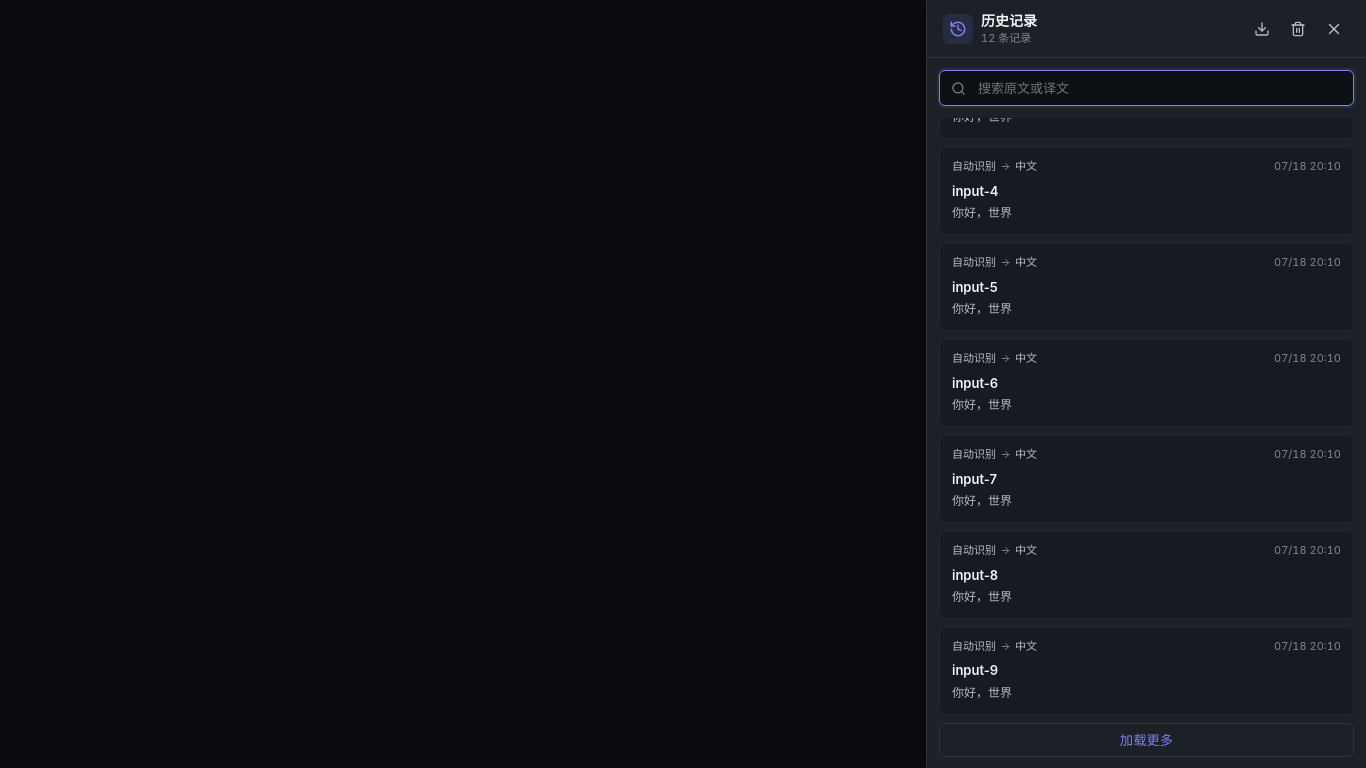
history drawer › loads ten entries at a time and releases them when closed
The image size is (1366, 768).
(page scrolled)
Check: the text "input-10" is not shown
Click the button "加载更多". click: (1146, 740)
box: [939,723,1354,757]
(page scrolled)
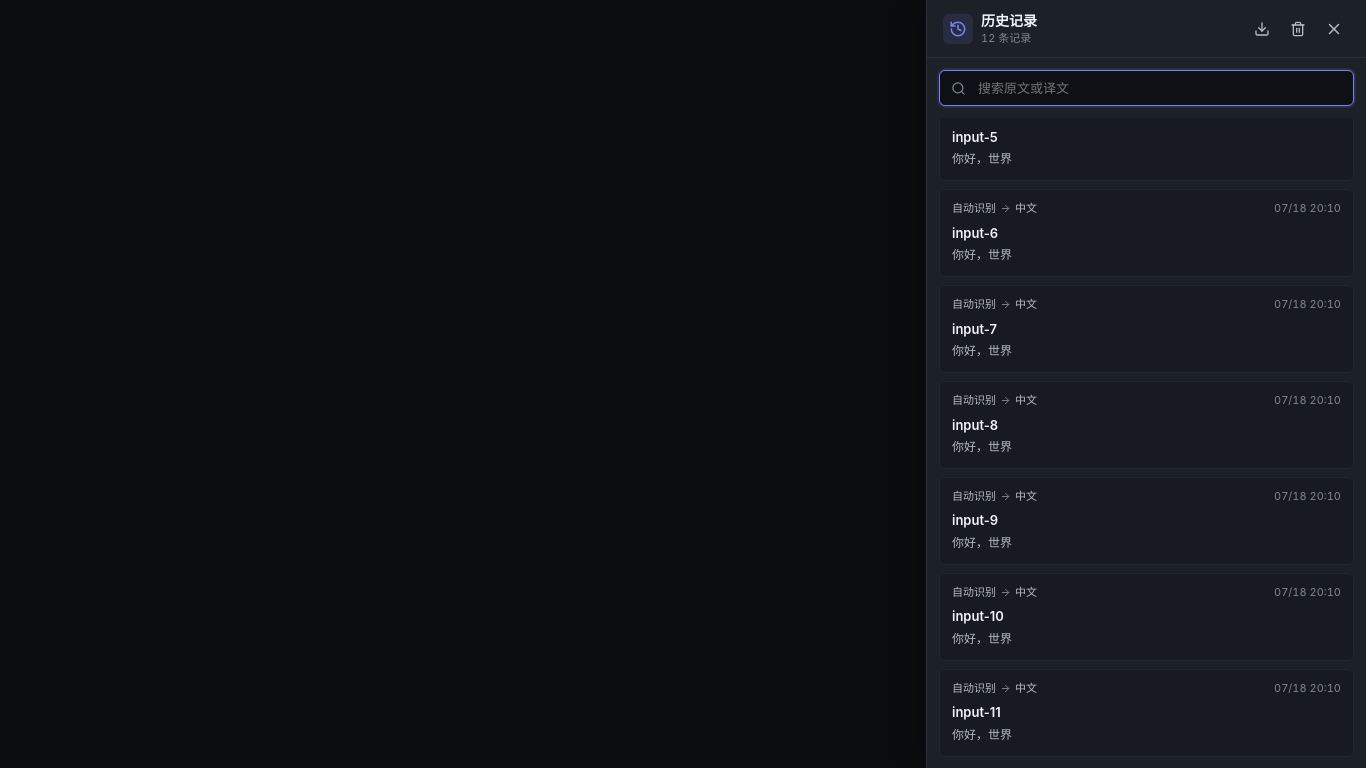
Check: the text "input-10" is shown, box [952,608,1004,624]
